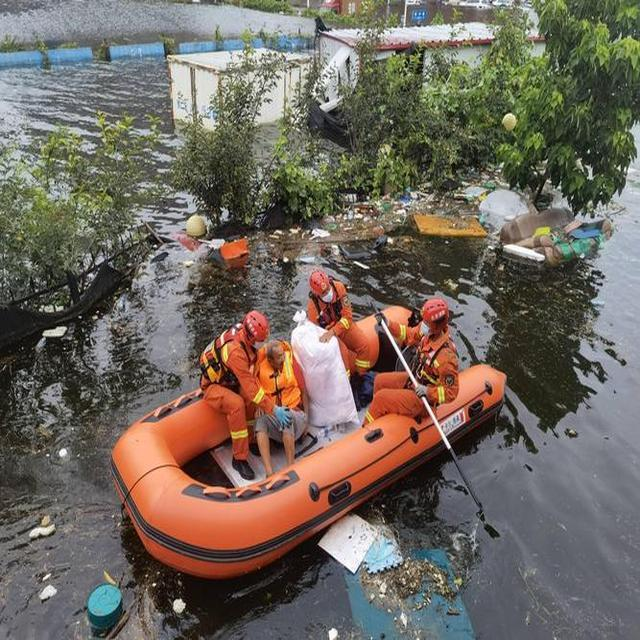Person-RiskLevel3: (368, 291, 467, 432), (195, 302, 258, 490), (300, 268, 380, 386), (252, 336, 315, 475)
